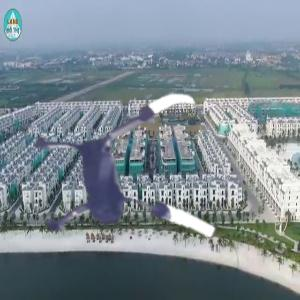drone: (10, 70, 238, 298)
